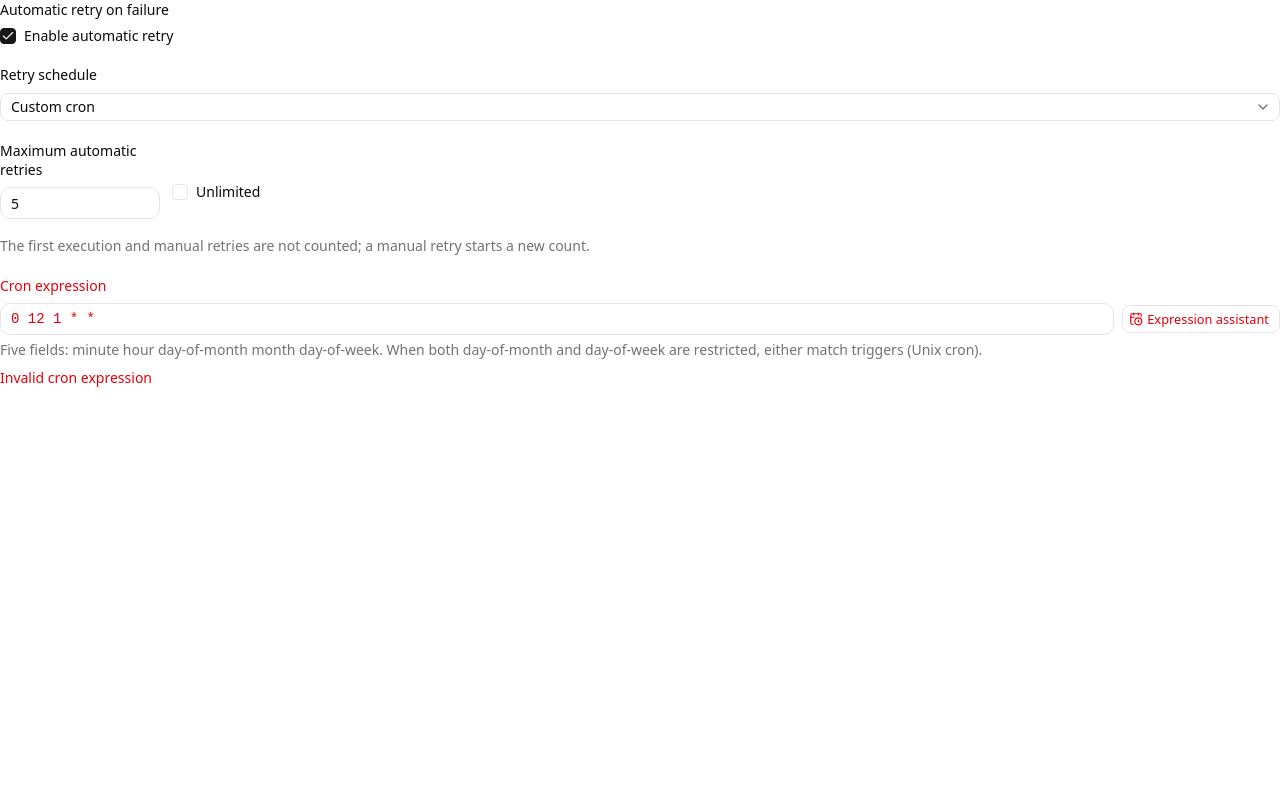
TerminalAutoRetrySettings review regressions › warns about complex expressions that cannot be reverse-filled
The image size is (1280, 800).
Click the button "Expression assistant": (1201, 319) [1122,305,1279,333]
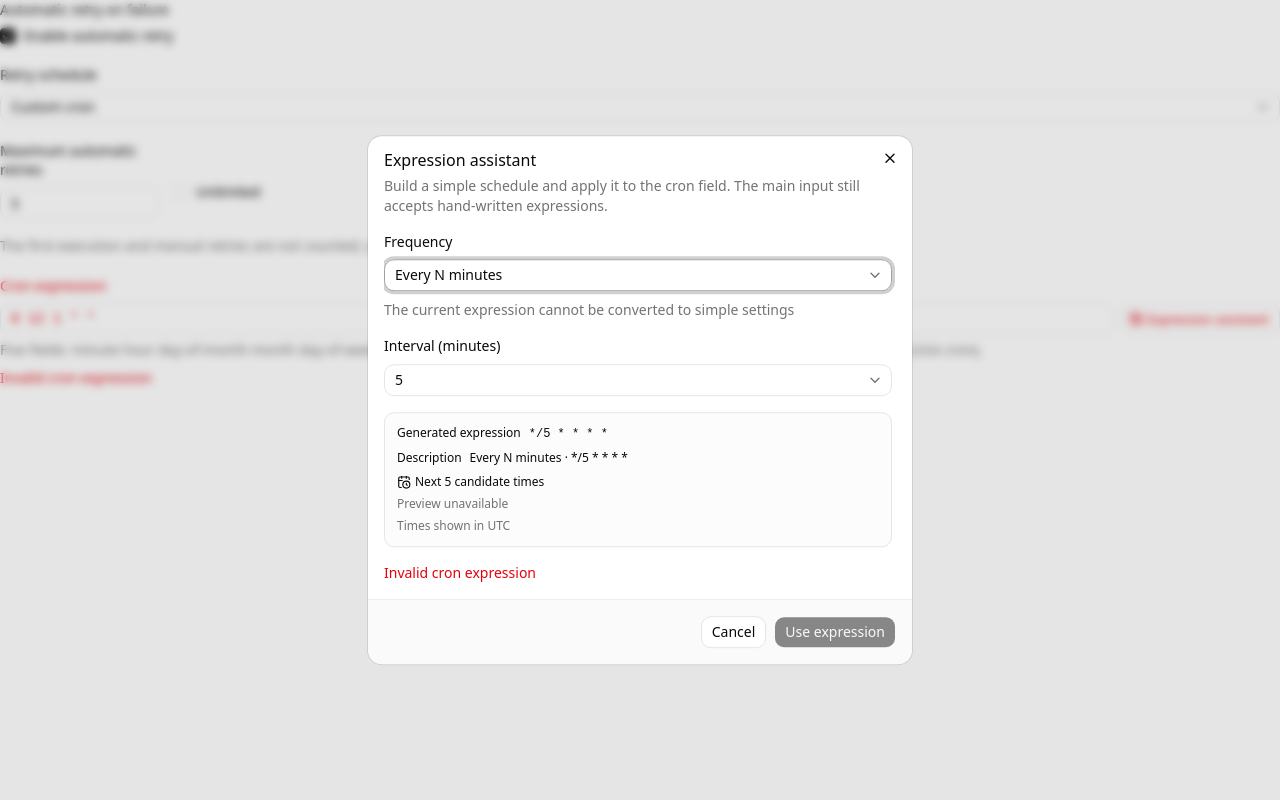
Expected: the text "The current expression cannot be converted to simple settings" is shown, [384,300,794,320]
